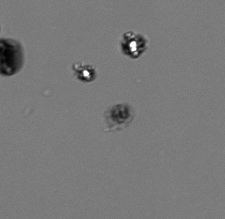Dead Cell: (1, 38, 23, 77), (110, 103, 130, 125)
Living Cell: (121, 33, 146, 58), (76, 63, 95, 82)
